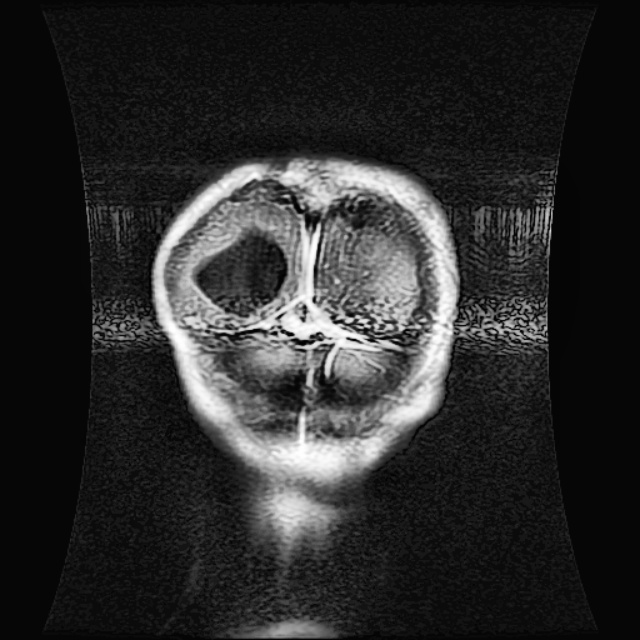Meningioma: (188, 224, 290, 319)
